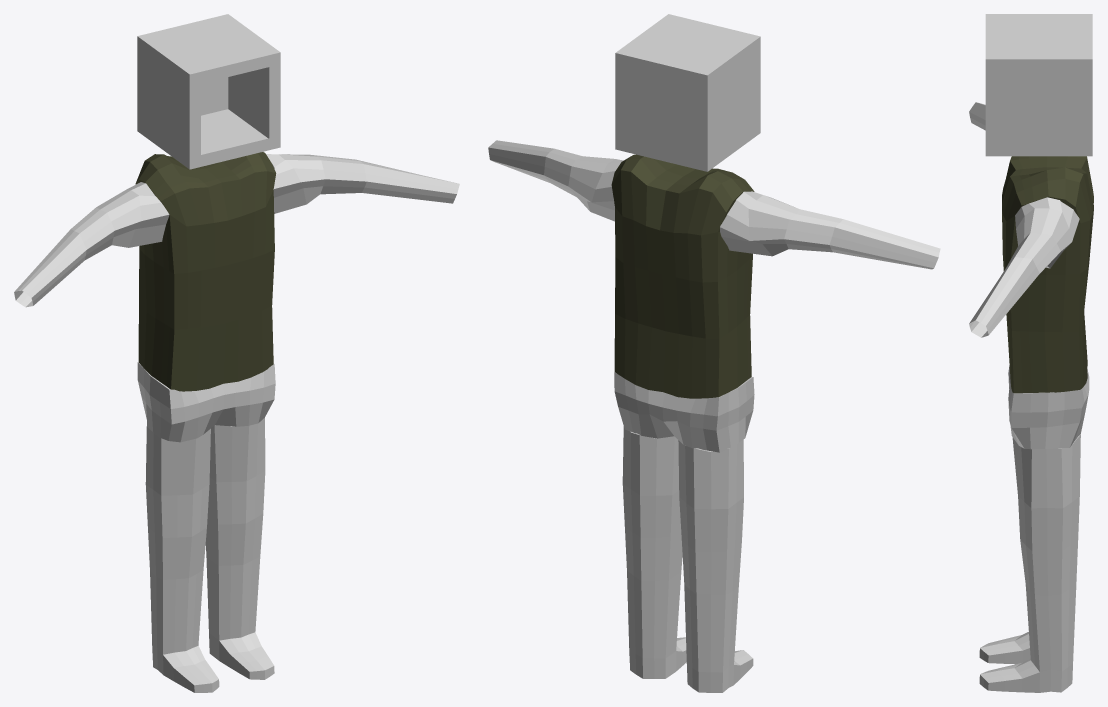
Rendered from charactered.fbx.
3 views of the same model, side by side, from view 1: azimuth 30°, elevation 25°; view 2: azimuth 150°, elevation 25°; view 3: azimuth 270°, elevation 25° (orthographic). The views are drawn at different scales.
Visible parts, largest first — view 1: bum, Cube, Cube.001, Cylinder.001; view 2: bum, Cube, Cube.001, Cylinder.001; view 3: bum, Cube.001, Cube, Cylinder.001.
Part boxes in pixels (<box>): bum: <box>137,362,275,692</box>; Cube: <box>135,152,276,391</box>; Cube.001: <box>137,14,280,169</box>; Cylinder.001: <box>14,154,459,307</box>; bum: <box>614,372,754,692</box>; Cube: <box>611,154,754,398</box>; Cube.001: <box>615,14,760,171</box>; Cylinder.001: <box>488,140,940,269</box>; bum: <box>979,365,1089,692</box>; Cube.001: <box>985,14,1092,156</box>; Cube: <box>1002,156,1093,393</box>; Cylinder.001: <box>969,102,1079,337</box>.
Size of the model in its own units: 186 by 249 by 44.41.
